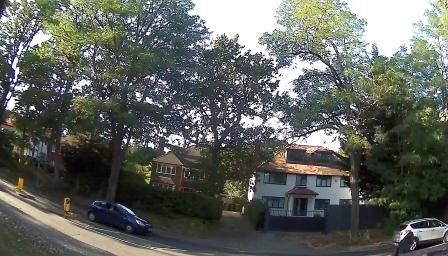Cars: (87, 196, 153, 234), (384, 218, 448, 246)
